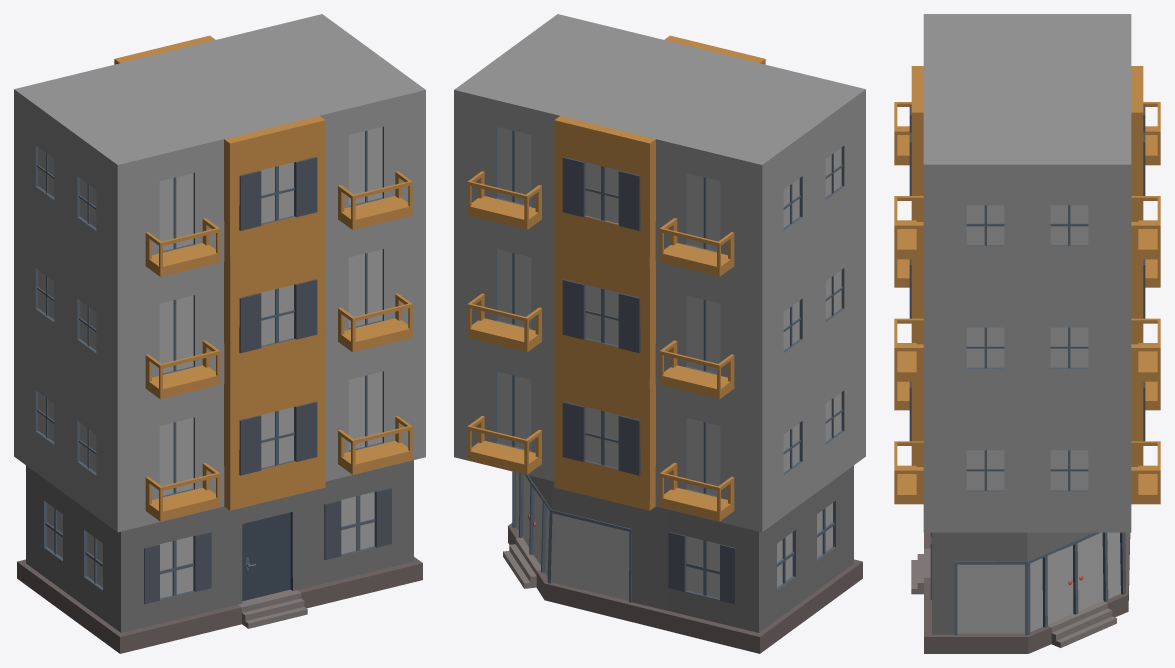
The model's file is bar.fbx.
The picture shows the model from 3 angles, left to right: view 1: azimuth 30°, elevation 25°; view 2: azimuth 150°, elevation 25°; view 3: azimuth 270°, elevation 25°; orthographic projection.
Visible parts, largest first — view 1: restaurant.004; view 2: restaurant.004; view 3: restaurant.004.
Boxes of the visible parts, box(x1,y1,x2,y2) form: restaurant.004: box(14, 14, 425, 653); restaurant.004: box(454, 14, 865, 653); restaurant.004: box(894, 14, 1160, 653).
Bounding box in the file's own units: 4482 × 6804 × 3346.
